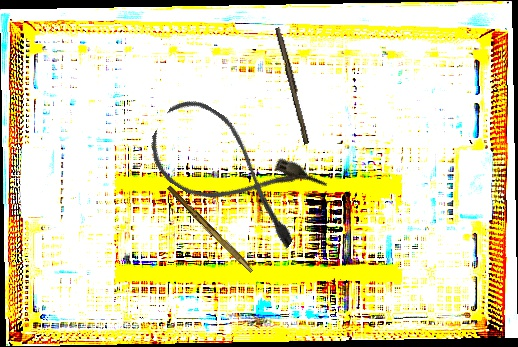Cannula: (136, 89, 330, 254)
Scalpel Handle: (164, 184, 257, 274), (273, 26, 313, 145)
